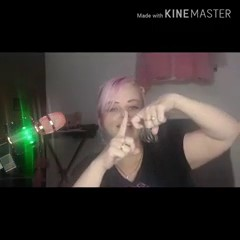K: (100, 94, 175, 169)
